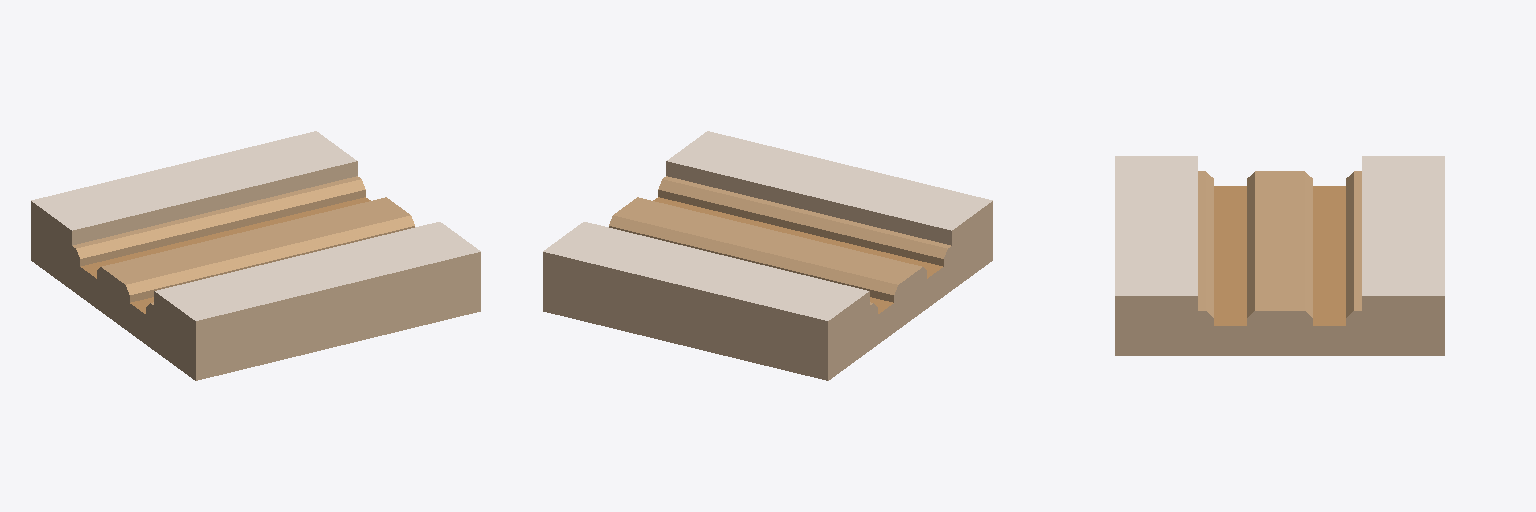
The model's file is Puzzle_Track_Standard_Straight.obj.
The picture shows the model from 3 angles: view 1: azimuth 30°, elevation 25°; view 2: azimuth 150°, elevation 25°; view 3: azimuth 270°, elevation 25°; orthographic projection.
Parts seen in each view (by area): view 1: object1; view 2: object1; view 3: object1.
Boxes of the visible parts, x1,y1,x2,y2 form: object1: [31, 131, 480, 380]; object1: [543, 131, 992, 380]; object1: [1115, 156, 1444, 355].
Bounding box in the file's own units: 1 × 0.2 × 1.